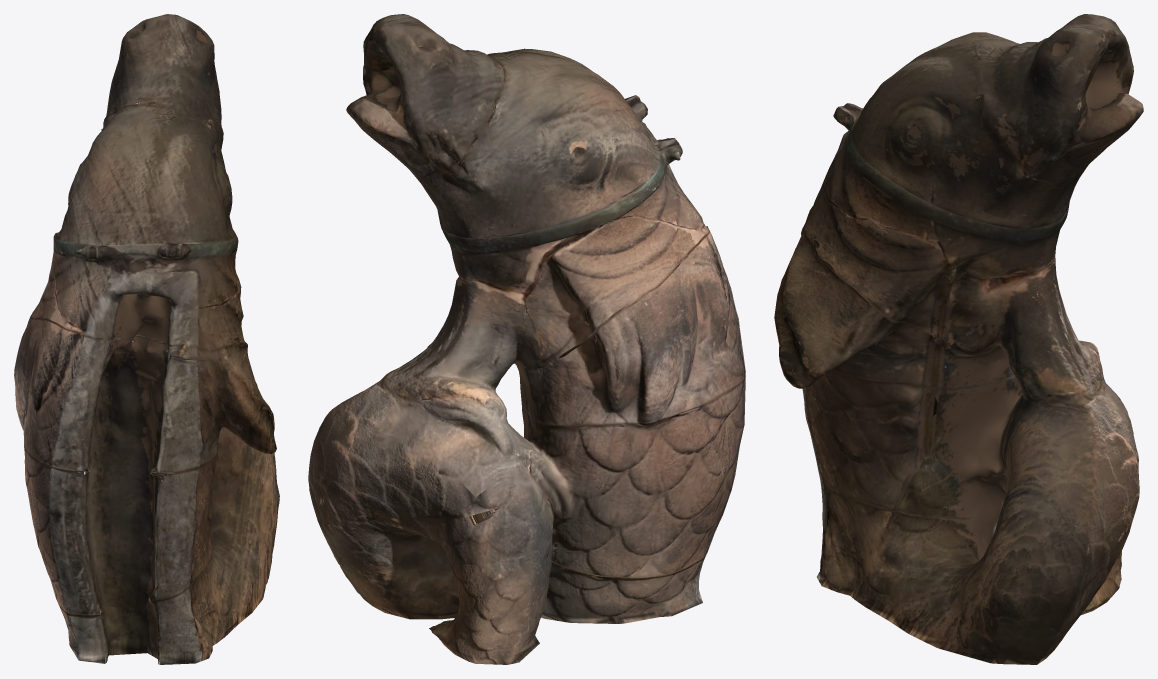
File: 11_fish.gltf
The picture shows the model from 3 angles, left to right: view 1: azimuth 30°, elevation 25°; view 2: azimuth 150°, elevation 25°; view 3: azimuth 270°, elevation 25°; orthographic projection. The views are drawn at different scales.
Visible parts, largest first — view 1: Mesh_0.001; view 2: Mesh_0.001; view 3: Mesh_0.001.
Boxes of the visible parts, x1=… form: Mesh_0.001: x1=14, y1=14, x2=279, y2=664; Mesh_0.001: x1=308, y1=14, x2=745, y2=664; Mesh_0.001: x1=774, y1=14, x2=1143, y2=664.
Size of the model in its own units: 1.56 by 2.71 by 1.48.
Materials: 4 (4 with a texture image).
